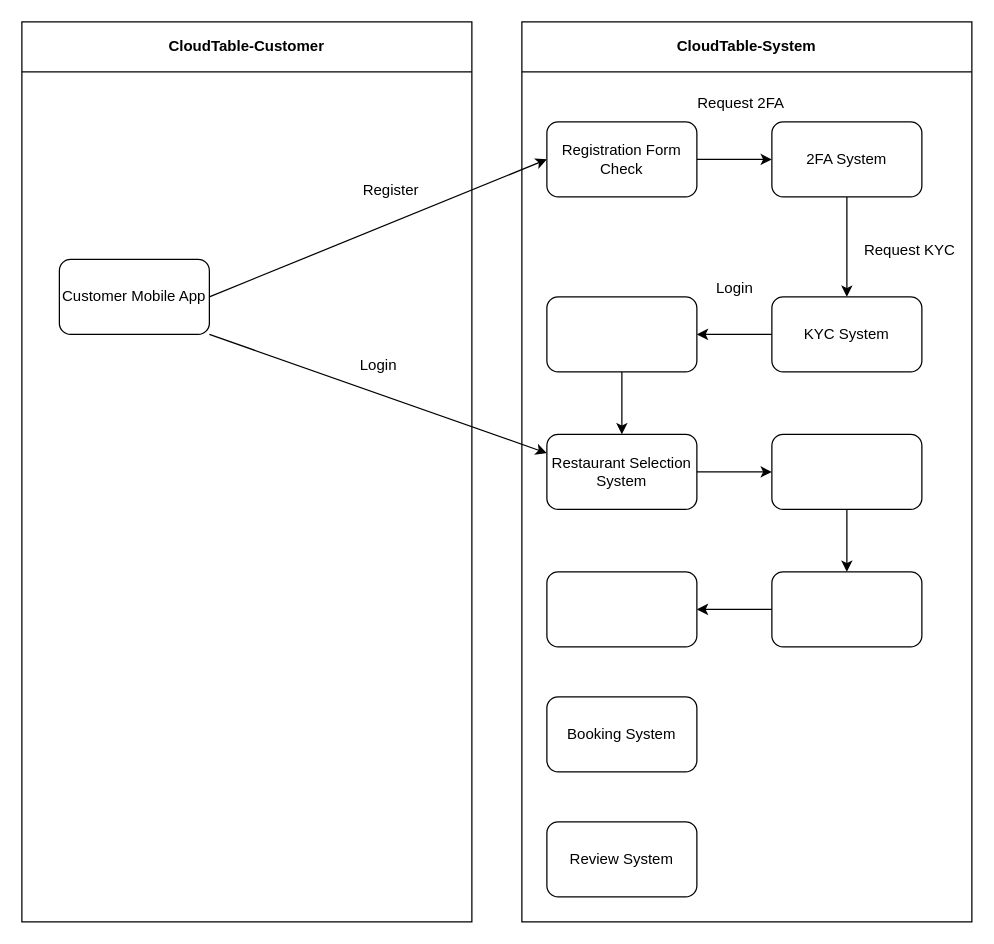
The diagram is 994 pixels wide and 944 high, and some of its shapes have lost their labels. Each missing label, with the centre of its shape:
"Account Login System" goes at (621,334).
"Menu System" goes at (846,471).
"Ordering and Paying System" goes at (846,609).
"Processing and Database storage System" goes at (621,609).
